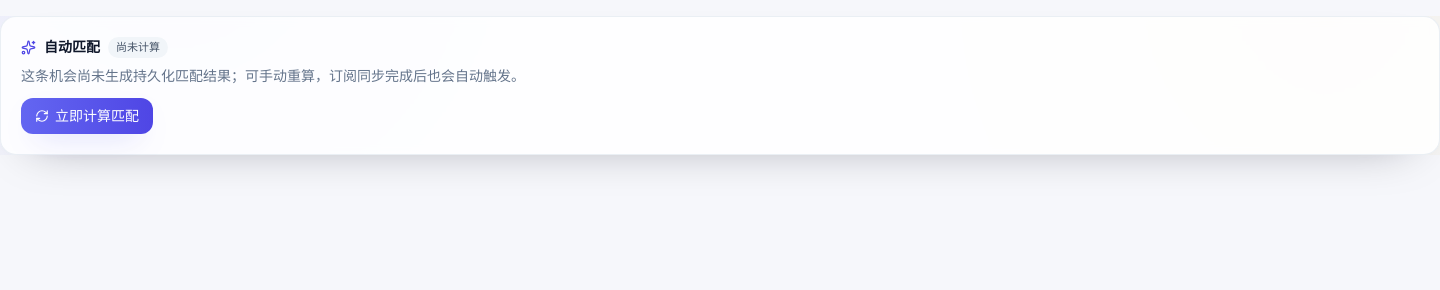
Test: OpportunityMatchPanel › offers a manual recompute when no persisted match exists
Check: the text "尚未计算" is shown, box [108, 37, 168, 58]
Click the button "立即计算匹配": (87, 116) [21, 98, 153, 134]
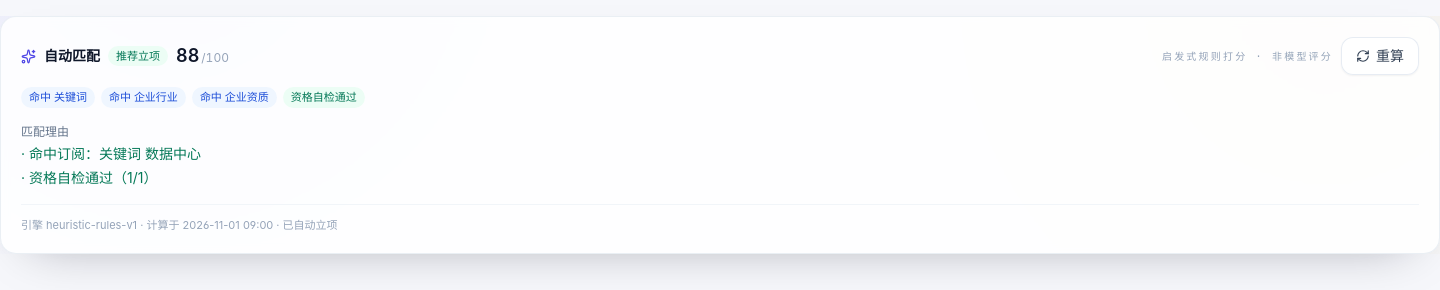
Check: the text "88/100" is shown, box [176, 42, 229, 70]
